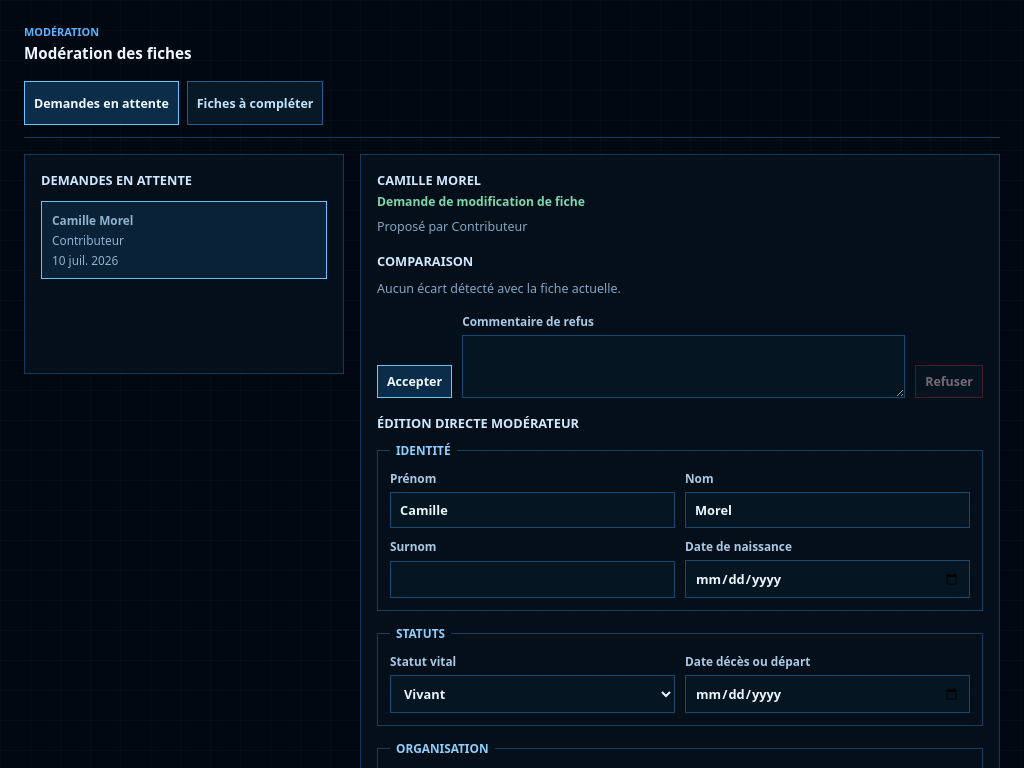
ModerationView › approves a request and refreshes public data
Step 1. Click the button "Accepter" → (415, 382), box [377, 365, 452, 398]
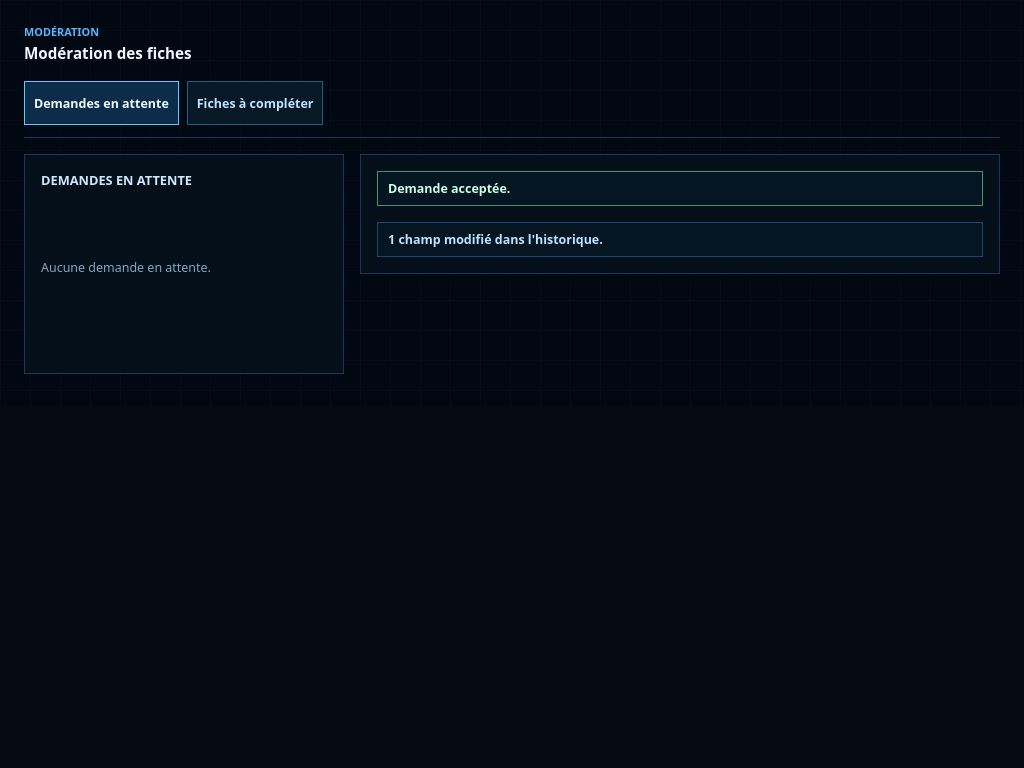
Expected: the text "Demande acceptée." is shown, [377, 171, 983, 206]
